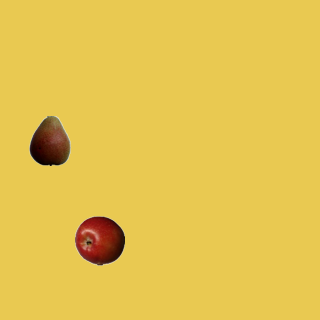Apple Braeburn: (74, 215, 124, 265)
Pear Forelle: (24, 115, 74, 165)
